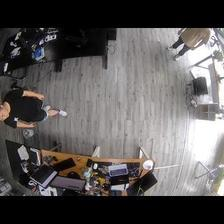normal: (1, 88, 70, 131), (168, 28, 212, 60)
